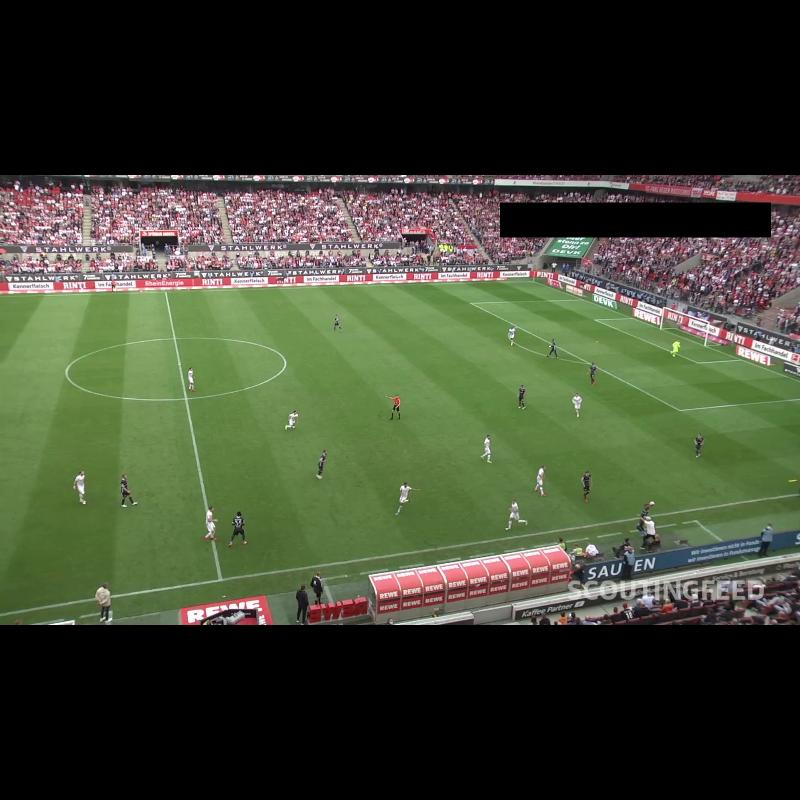cross_recipient_zone: (471, 299, 800, 410)
crossing_player_zone: (556, 399, 800, 510), (358, 281, 581, 306)
pitch: (0, 281, 800, 615)
